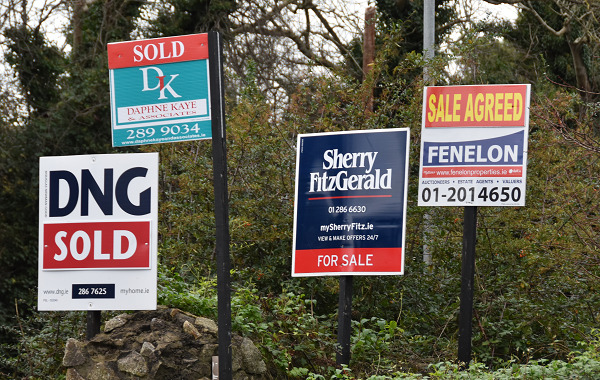property sign: (27, 149, 167, 318), (288, 121, 410, 290), (94, 27, 236, 149), (417, 78, 535, 218)
